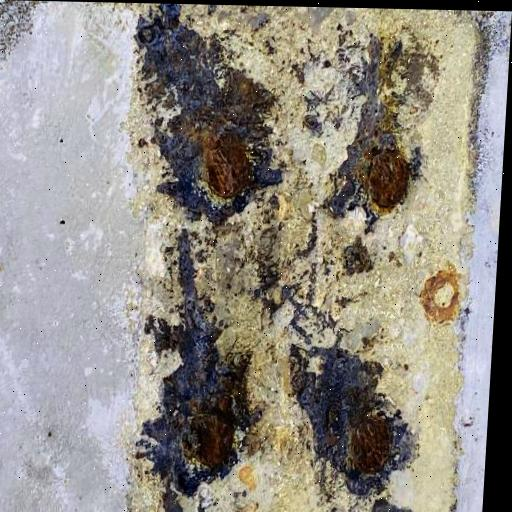exposed_rebar: (204, 131, 251, 199), (184, 409, 234, 467), (367, 149, 409, 210), (350, 416, 392, 475)
